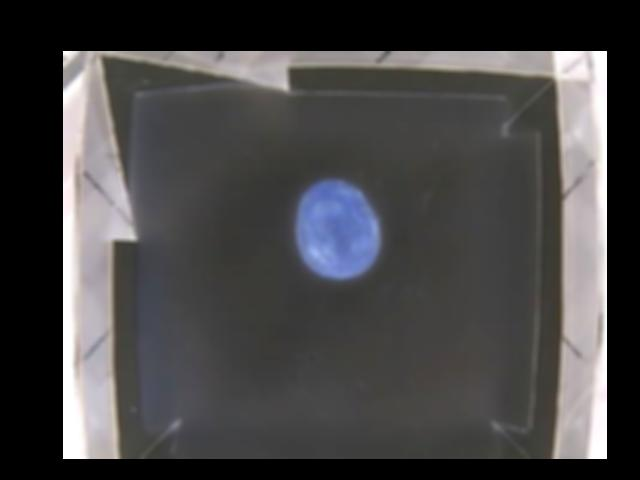Potato: (295, 178, 381, 281)
